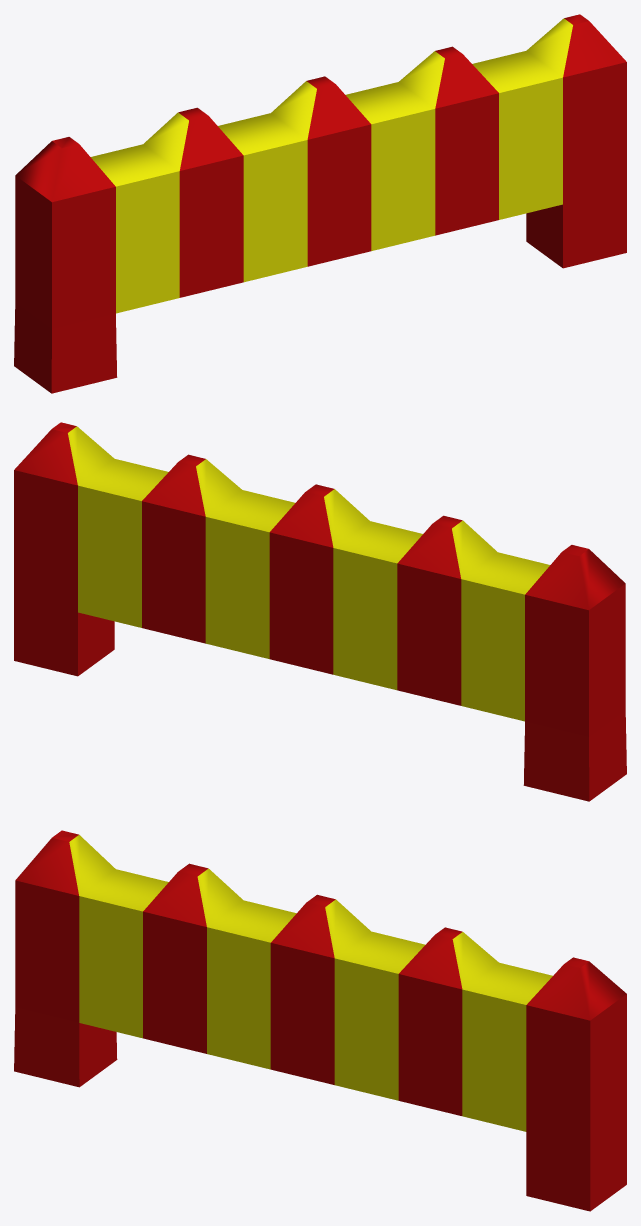
The model's file is przeszkodadol.fbx.
The picture shows the model from 3 angles, top to bottom: view 1: azimuth 30°, elevation 25°; view 2: azimuth 150°, elevation 25°; view 3: azimuth 330°, elevation 25°; orthographic projection.
Parts seen in each view (by area): view 1: Cube; view 2: Cube; view 3: Cube.
Part boxes in pixels (x1,y1,x2,y2): Cube: (14, 14, 626, 393); Cube: (14, 422, 626, 801); Cube: (14, 830, 626, 1211).
Bounding box in the file's own units: 801 × 305 × 90.73.
